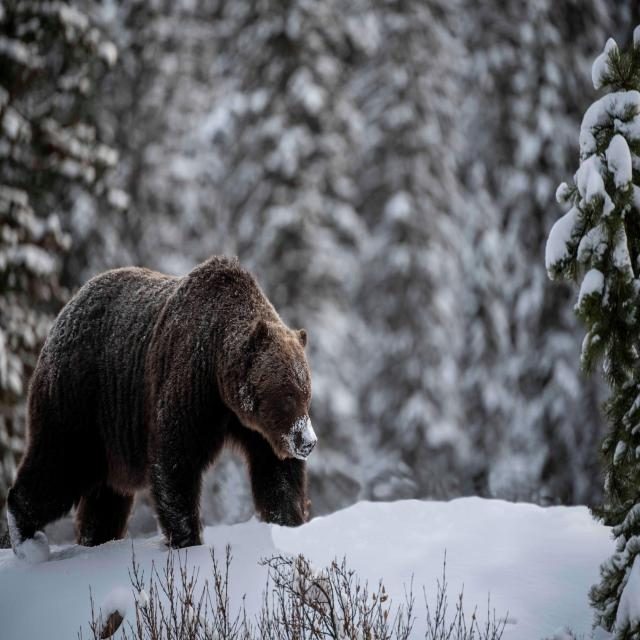Bear: (5, 257, 317, 558)
